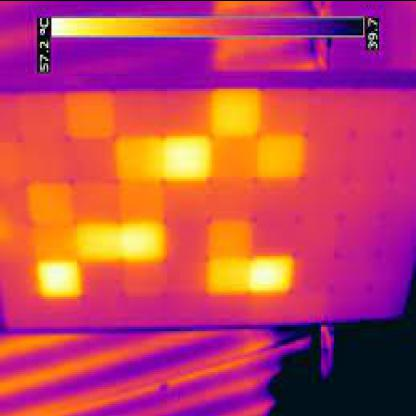Defects: (164, 135, 212, 178), (250, 251, 296, 294), (258, 136, 304, 174), (211, 94, 256, 132), (119, 140, 162, 178), (121, 226, 166, 260), (207, 260, 251, 294), (39, 262, 77, 300), (82, 226, 120, 260)
